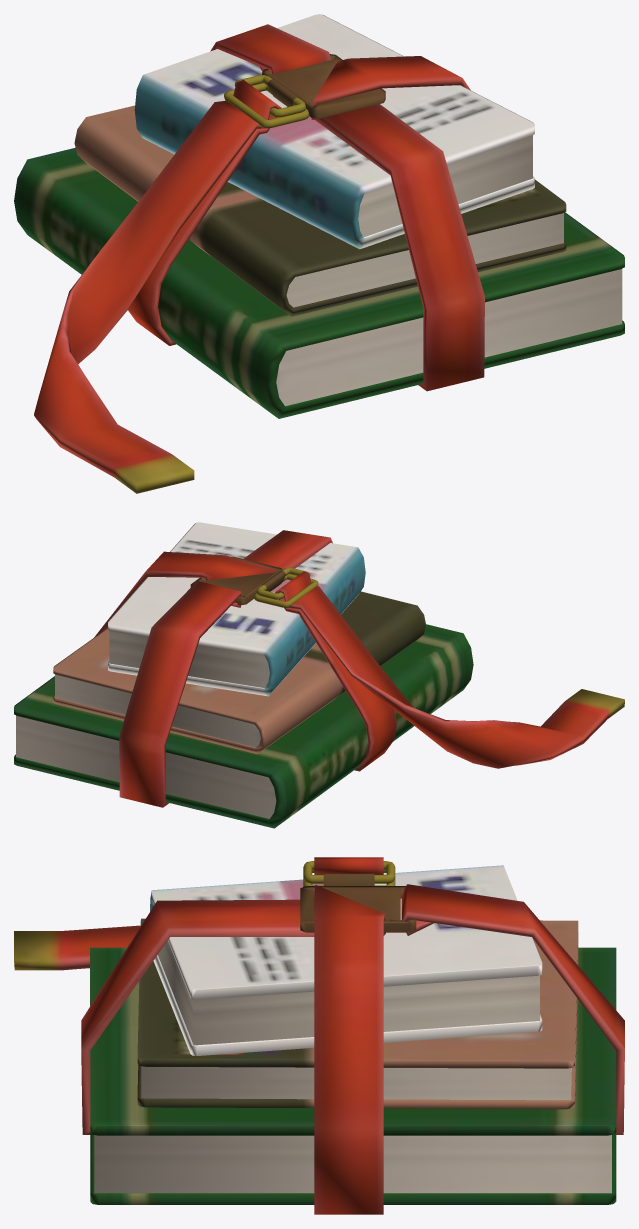
3 views of the same model, one above another, from view 1: azimuth 30°, elevation 25°; view 2: azimuth 150°, elevation 25°; view 3: azimuth 270°, elevation 25° (orthographic). The views are drawn at different scales.
Size of the model in its own units: 6.33 by 2.39 by 5.85.
Materials: 1 (1 with a texture image).
